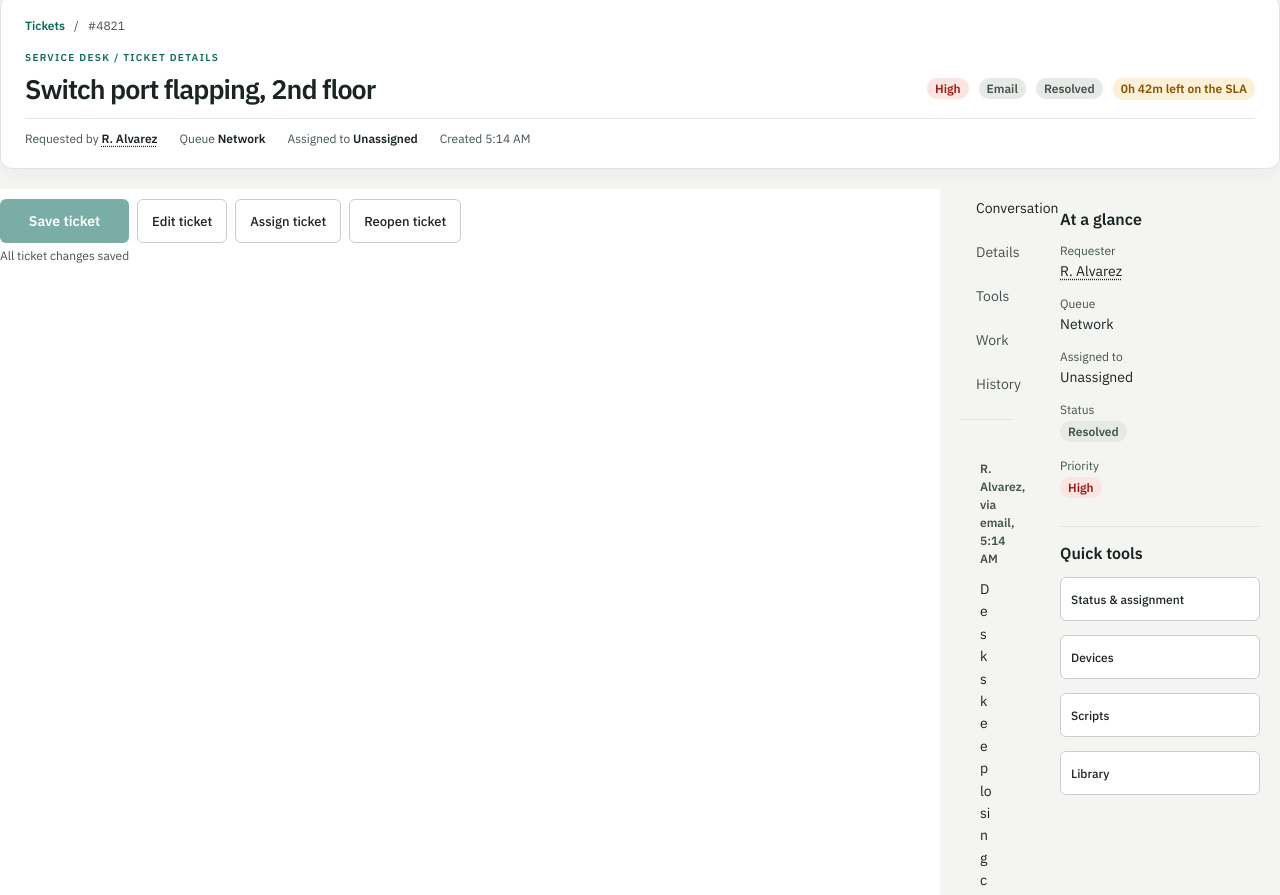
Test: ticket › escalate asks for a reason and is disabled on resolved tickets
Click the tab "Details" at {"x": 998, "y": 252}, box [960,233,1036,271]
(page scrolled)
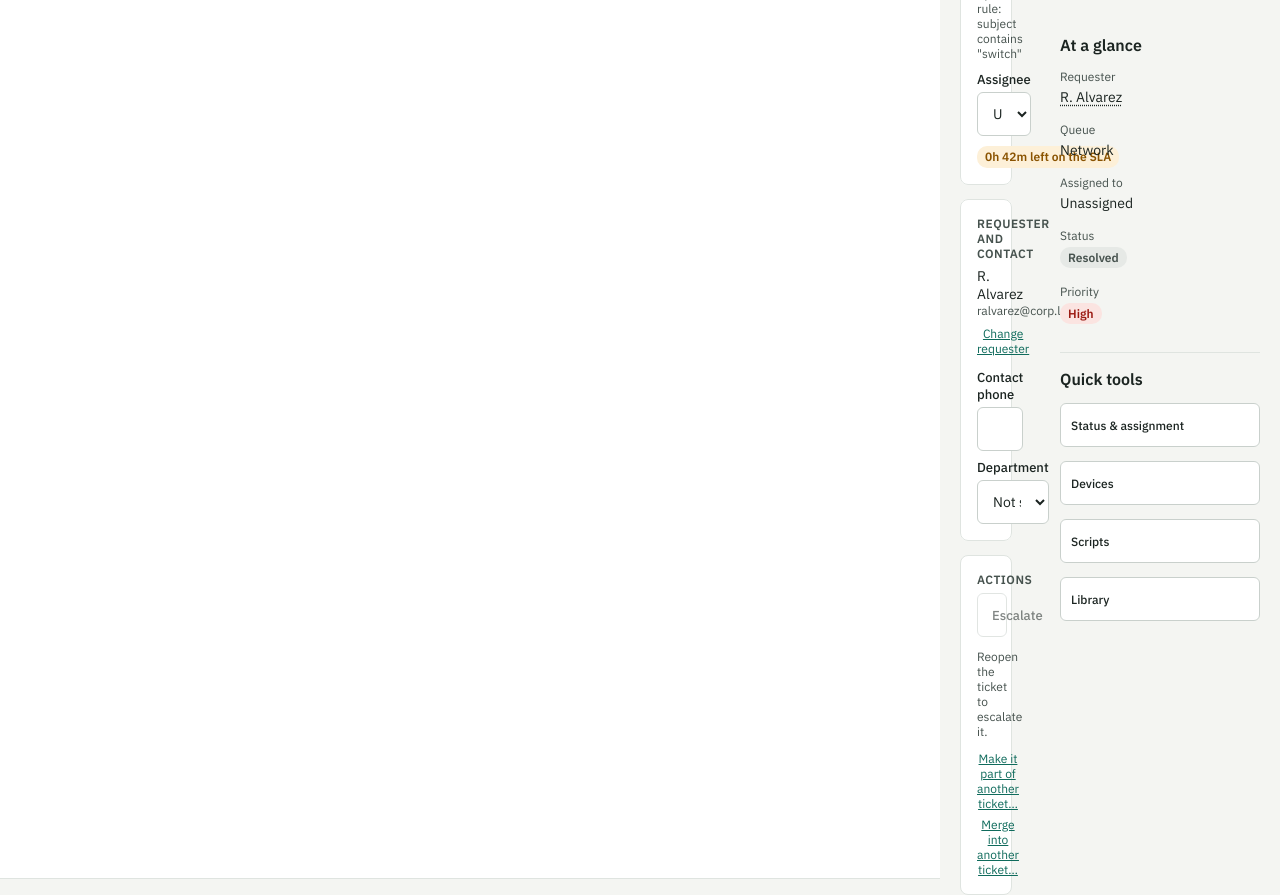
Result: the button "Escalate" is disabled at [977,593,1007,637]
Result: the text "Reopen the ticket to escalate it." is shown at [977,649,995,739]
